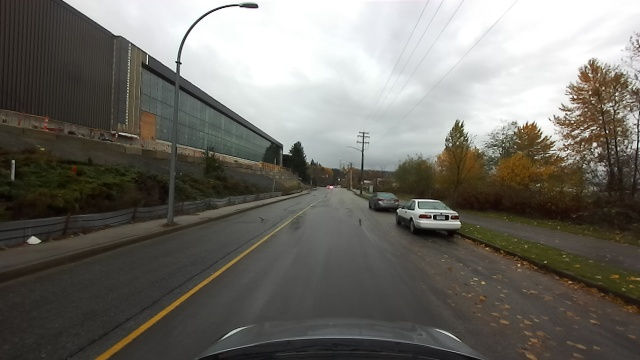car: (393, 195, 464, 237), (363, 191, 398, 212)
